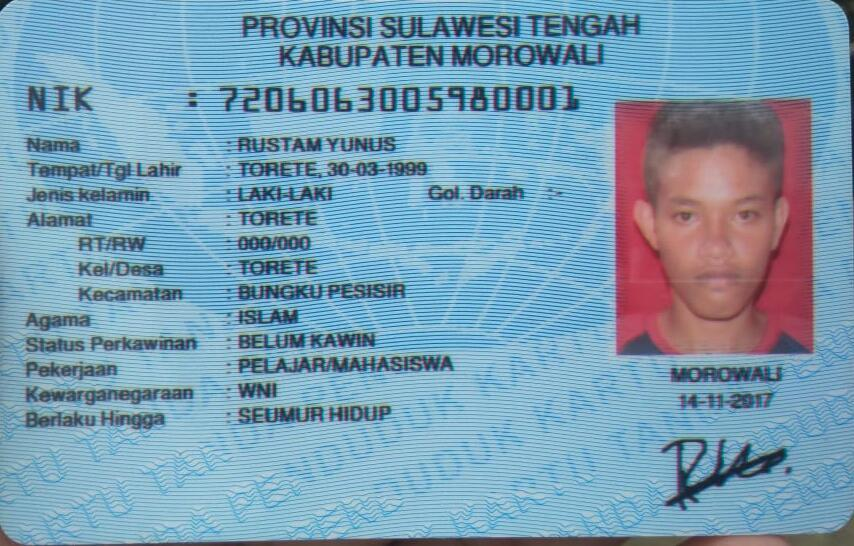ID-card: (0, 1, 851, 546)
